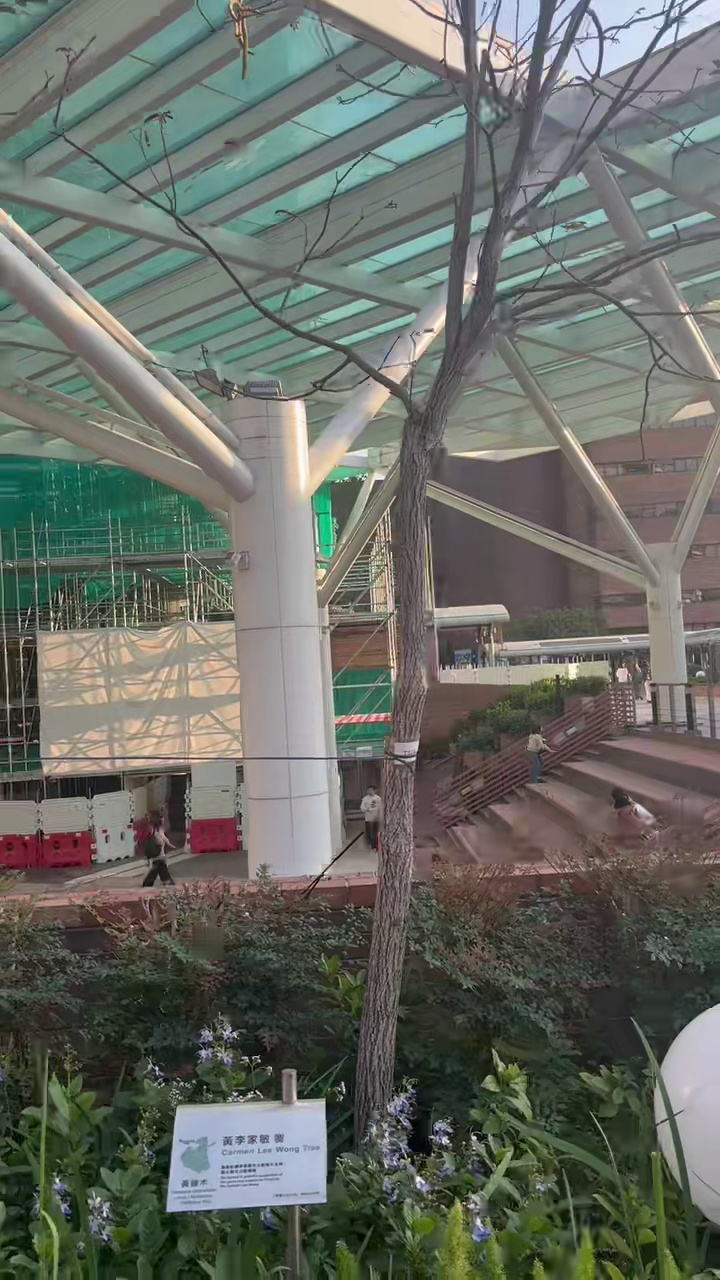Tabebuia chrysantha: (311, 0, 690, 1129)
